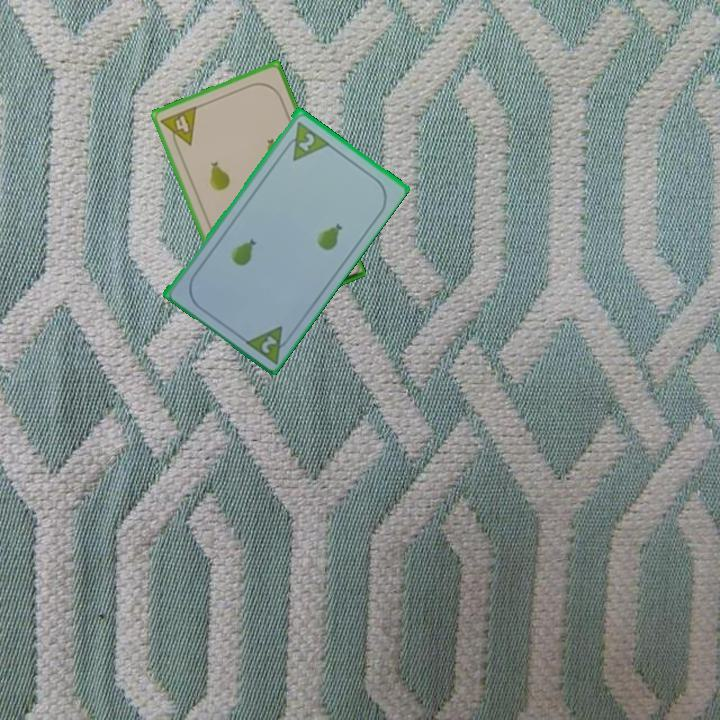2p: (240, 321, 296, 366), (294, 129, 317, 154)
4p: (157, 102, 200, 153)
